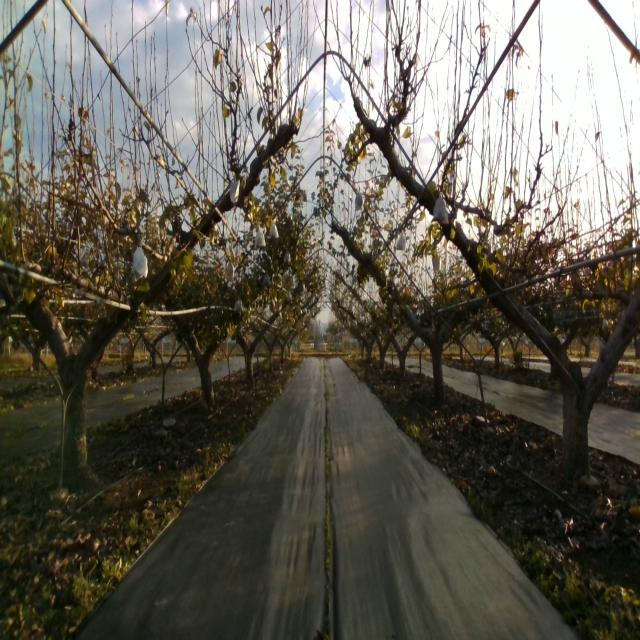pearbags: (132, 239, 148, 283), (430, 193, 450, 224), (230, 173, 240, 204), (254, 226, 266, 250)
